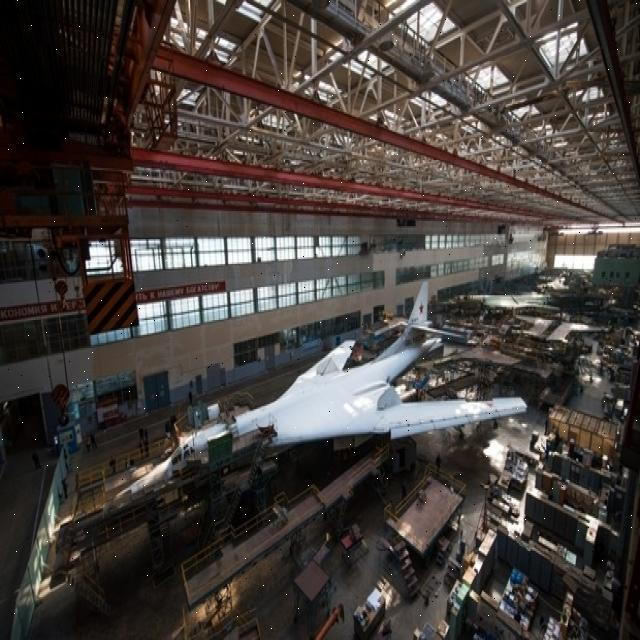Tu160: (88, 278, 603, 480)
